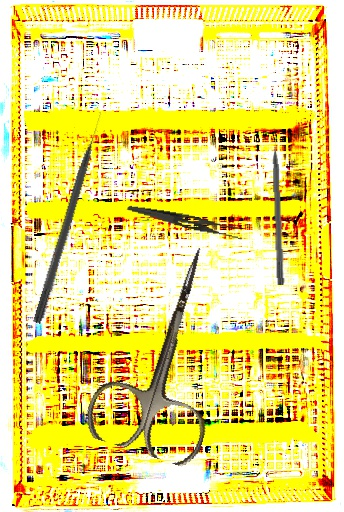Dressing Forceps: (124, 204, 246, 242)
Iris Scissors: (79, 230, 259, 471)
Pusher: (32, 111, 108, 325), (271, 127, 286, 286)
